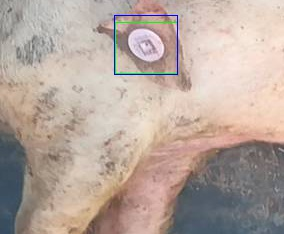text: (115, 22, 177, 73)
